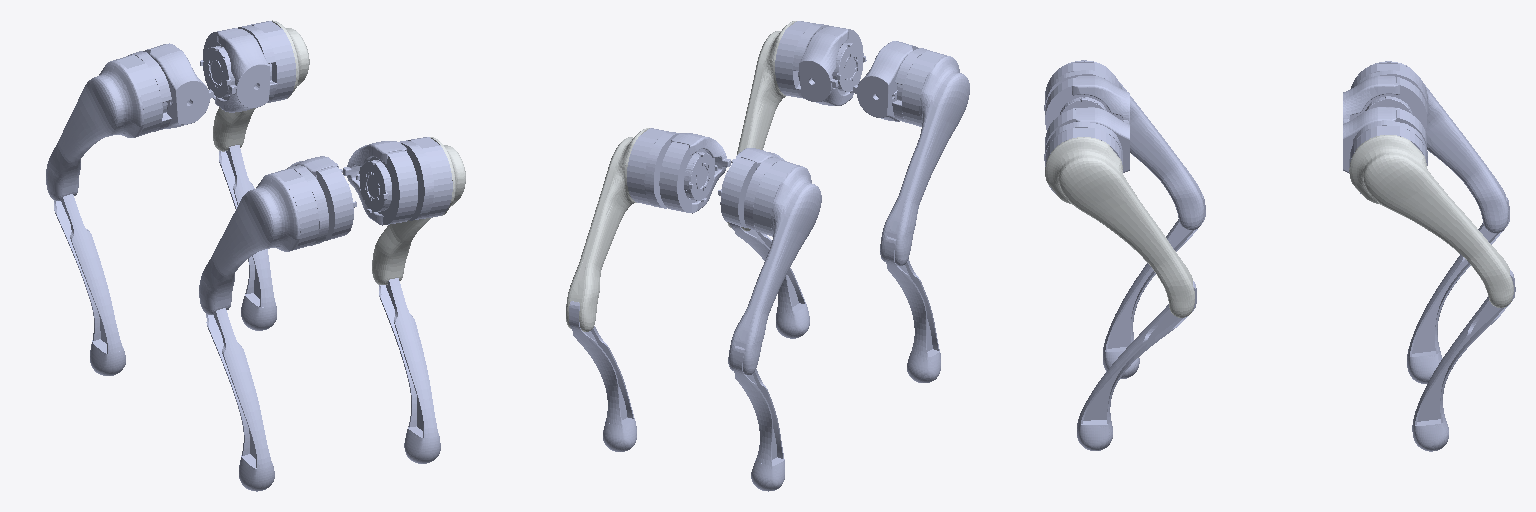
robot.urdf — quadruped:
<?xml version="1.0" encoding="utf-8"?>
<!-- This URDF was automatically created by SolidWorks to URDF Exporter! Originally created by [author] ([email redacted]) 
     Commit Version: 1.6.0-4-g7f85cfe  Build Version: 1.6.7995.38578
     For more information, please see http://wiki.ros.org/sw_urdf_exporter -->
<robot
  name="quadruped">
  <link name="base_footprint" >
    </link>

  <link
    name="base_link">
    <inertial>
      <origin
        xyz="0.000752495916009444 -0.080216130979565 -0.0778330308190568"
        rpy="0 0 0" />
      <mass
        value="11.6015850130992" />
      <inertia
        ixx="0.043009263742307"
        ixy="-3.70499990792607E-06"
        ixz="-0.000403848618081728"
        iyy="0.0588206185903865"
        iyz="0.00155366137564753"
        izz="0.0232715272003946" />
    </inertial>
    <visual>
      <origin
        xyz="0 0 0"
        rpy="0 0 0" />
      <geometry>
        <mesh
          filename="package://quadruped/meshes/base_link.STL" />
      </geometry>
      <material
        name="">
        <color
          rgba="0.90784313725490196 0.89 0.984313725490196 1" />
      </material>
    </visual>
    <collision>
      <origin
        xyz="0 0 0"
        rpy="0 0 0" />
      <geometry>
        <mesh
          filename="package://quadruped/meshes/base_link.STL" />
      </geometry>
    </collision>
  </link>

  <joint name="base_link2body_link" type="fixed">
        <parent link="base_footprint" />
        <child link="base_link" />
        <origin rpy="-1.57079632679487 0 0" xyz="0 0 0.4" />
        <axis xyz="0 0 1" />
    </joint>

  <link
    name="fl_hip">
    <inertial>
      <origin
        xyz="4.92583133146676E-05 0.0535669995994788 0.0200990145510571"
        rpy="0 0 0" />
      <mass
        value="0.62530929599068" />
      <inertia
        ixx="0.000369199602216348"
        ixy="8.71408166676265E-07"
        ixz="-1.10627450922441E-08"
        iyy="0.000393009437394139"
        iyz="-1.01602385775192E-06"
        izz="0.000646977204485832" />
    </inertial>
    <visual>
      <origin
        xyz="0 0 0"
        rpy="0 0 0" />
      <geometry>
        <mesh
          filename="package://quadruped/meshes/fl_hip.STL" />
      </geometry>
      <material
        name="">
        <color
          rgba="0.792156862745098 0.819607843137255 0.933333333333333 1" />
      </material>
    </visual>
    <collision>
      <origin
        xyz="0 0 0"
        rpy="0 0 0" />
      <geometry>
        <mesh
          filename="package://quadruped/meshes/fl_hip.STL" />
      </geometry>
    </collision>
  </link>
  <joint
    name="fl_hip_joint"
    type="continuous">
    <origin
      xyz="0.04675 0 -0.1316"
      rpy="-1.57079632679487 0 -1.49760970819496" />
    <parent
      link="base_link" />
    <child
      link="fl_hip" />
    <axis
      xyz="0 -1 0" />
  </joint>
  <link
    name="fl_thigh">
    <inertial>
      <origin
        xyz="0.0694334224905727 0.0071900522058161 -0.00769417299016467"
        rpy="0 0 0" />
      <mass
        value="0.353957750380783" />
      <inertia
        ixx="0.00014080701353485"
        ixy="-7.44567427545961E-05"
        ixz="9.56636451746183E-05"
        iyy="0.00218695117611276"
        iyz="8.3243947292521E-06"
        izz="0.00210735709219806" />
    </inertial>
    <visual>
      <origin
        xyz="0 0 0"
        rpy="0 0 0" />
      <geometry>
        <mesh
          filename="package://quadruped/meshes/fl_thigh.STL" />
      </geometry>
      <material
        name="">
        <color
          rgba="0.898039215686275 0.917647058823529 0.929411764705882 1" />
      </material>
    </visual>
    <collision>
      <origin
        xyz="0 0 0"
        rpy="0 0 0" />
      <geometry>
        <mesh
          filename="package://quadruped/meshes/fl_thigh.STL" />
      </geometry>
    </collision>
  </link>
  <joint
    name="fl_thigh_joint"
    type="continuous">
    <origin
      xyz="0 0.0565 0.0698"
      rpy="1.5708 0 -2.5408" />
    <parent
      link="fl_hip" />
    <child
      link="fl_thigh" />
    <axis
      xyz="0 1 0" />
  </joint>
  <link
    name="fl_calf">
    <inertial>
      <origin
        xyz="-0.120970927796247 0.0765623755604252 0.0123999113836051"
        rpy="0 0 0" />
      <mass
        value="0.0970218655517484" />
      <inertia
        ixx="9.56073592044336E-05"
        ixy="0.000108548966388269"
        ixz="2.9516835495558E-10"
        iyy="0.000160671805997434"
        iyz="-2.65464775446173E-09"
        izz="0.000245142144728119" />
    </inertial>
    <visual>
      <origin
        xyz="0 0 0"
        rpy="0 0 0" />
      <geometry>
        <mesh
          filename="package://quadruped/meshes/fl_calf.STL" />
      </geometry>
      <material
        name="">
        <color
          rgba="0.792156862745098 0.819607843137255 0.933333333333333 1" />
      </material>
    </visual>
    <collision>
      <origin
        xyz="0 0 0"
        rpy="0 0 0" />
      <geometry>
        <mesh
          filename="package://quadruped/meshes/fl_calf.STL" />
      </geometry>
    </collision>
  </link>
  <joint
    name="fl_calf_joint"
    type="continuous">
    <origin
      xyz="0.213 -0.0027 0"
      rpy="1.5708 0.60083 -3.1416" />
    <parent
      link="fl_thigh" />
    <child
      link="fl_calf" />
    <axis
      xyz="0 0 -1" />
  </joint>
  <link
    name="rl_hip">
    <inertial>
      <origin
        xyz="-4.92749015765907E-05 -0.00293299455401402 -0.0105990354932866"
        rpy="0 0 0" />
      <mass
        value="0.6253089067032" />
      <inertia
        ixx="0.000369210492129897"
        ixy="-8.61586846076742E-07"
        ixz="-7.78132992311227E-09"
        iyy="0.000393019170316637"
        iyz="1.0128732349074E-06"
        izz="0.000646995625636194" />
    </inertial>
    <visual>
      <origin
        xyz="0 0 0"
        rpy="0 0 0" />
      <geometry>
        <mesh
          filename="package://quadruped/meshes/rl_hip.STL" />
      </geometry>
      <material
        name="">
        <color
          rgba="0.792156862745098 0.819607843137255 0.933333333333333 1" />
      </material>
    </visual>
    <collision>
      <origin
        xyz="0 0 0"
        rpy="0 0 0" />
      <geometry>
        <mesh
          filename="package://quadruped/meshes/rl_hip.STL" />
      </geometry>
    </collision>
  </link>
  <joint
    name="rl_hip_joint"
    type="continuous">
    <origin
      xyz="0.0562432918733803 0.000356944543040213 0.1881"
      rpy="1.5707963267949 0 -1.53321437081203" />
    <parent
      link="base_link" />
    <child
      link="rl_hip" />
    <axis
      xyz="0 -1 0" />
  </joint>
  <link
    name="rl_thigh">
    <inertial>
      <origin
        xyz="0.0694338198098081 0.00719004738249336 -0.00769411856040869"
        rpy="0 0 0" />
      <mass
        value="0.353956887418813" />
      <inertia
        ixx="0.000140808434417983"
        ixy="-7.44570347959447E-05"
        ixz="9.56639451737715E-05"
        iyy="0.00218695314859873"
        iyz="8.32374920165179E-06"
        izz="0.00210735761325968" />
    </inertial>
    <visual>
      <origin
        xyz="0 0 0"
        rpy="0 0 0" />
      <geometry>
        <mesh
          filename="package://quadruped/meshes/rl_thigh.STL" />
      </geometry>
      <material
        name="">
        <color
          rgba="0.898039215686275 0.917647058823529 0.929411764705882 1" />
      </material>
    </visual>
    <collision>
      <origin
        xyz="0 0 0"
        rpy="0 0 0" />
      <geometry>
        <mesh
          filename="package://quadruped/meshes/rl_thigh.STL" />
      </geometry>
    </collision>
  </link>
  <joint
    name="rl_thigh_joint"
    type="continuous">
    <origin
      xyz="0 0 -0.0603000000000004"
      rpy="-1.5707963267949 0 2.43152992225609" />
    <parent
      link="rl_hip" />
    <child
      link="rl_thigh" />
    <axis
      xyz="0 1 0" />
  </joint>
  <link
    name="rl_calf">
    <inertial>
      <origin
        xyz="0.128594224187596 -0.0629170637871342 0.0124000366618044"
        rpy="0 0 0" />
      <mass
        value="0.0970232335666546" />
      <inertia
        ixx="7.28432489188841E-05"
        ixy="9.88966968480843E-05"
        ixz="2.12425641848113E-09"
        iyy="0.000183382219983255"
        iyz="1.04817449349891E-09"
        izz="0.000245088770891125" />
    </inertial>
    <visual>
      <origin
        xyz="0 0 0"
        rpy="0 0 0" />
      <geometry>
        <mesh
          filename="package://quadruped/meshes/rl_calf.STL" />
      </geometry>
      <material
        name="">
        <color
          rgba="0.792156862745098 0.819607843137255 0.933333333333333 1" />
      </material>
    </visual>
    <collision>
      <origin
        xyz="0 0 0"
        rpy="0 0 0" />
      <geometry>
        <mesh
          filename="package://quadruped/meshes/rl_calf.STL" />
      </geometry>
    </collision>
  </link>
  <joint
    name="rl_calf_joint"
    type="continuous">
    <origin
      xyz="0.213 -0.0027 0"
      rpy="-1.5708 -0.71006 0" />
    <parent
      link="rl_thigh" />
    <child
      link="rl_calf" />
    <axis
      xyz="0 0 -1" />
  </joint>
  <link
    name="fr_hip">
    <inertial>
      <origin
        xyz="-4.92748089116575E-05 -0.00293299449838894 -0.0105990346313431"
        rpy="0 0 0" />
      <mass
        value="0.625308921007543" />
      <inertia
        ixx="0.000369210502146603"
        ixy="-8.61593095652429E-07"
        ixz="-7.78524390606701E-09"
        iyy="0.000393019185429056"
        iyz="1.01286962529073E-06"
        izz="0.000646995646564777" />
    </inertial>
    <visual>
      <origin
        xyz="0 0 0"
        rpy="0 0 0" />
      <geometry>
        <mesh
          filename="package://quadruped/meshes/fr_hip.STL" />
      </geometry>
      <material
        name="">
        <color
          rgba="0.792156862745098 0.819607843137255 0.933333333333333 1" />
      </material>
    </visual>
    <collision>
      <origin
        xyz="0 0 0"
        rpy="0 0 0" />
      <geometry>
        <mesh
          filename="package://quadruped/meshes/fr_hip.STL" />
      </geometry>
    </collision>
  </link>
  <joint
    name="fr_hip_joint"
    type="continuous">
    <origin
      xyz="-0.0562404499451662 0.000425863638135441 -0.1881"
      rpy="-1.57079632679485 0 -1.61563910553559" />
    <parent
      link="base_link" />
    <child
      link="fr_hip" />
    <axis
      xyz="0 -1 0" />
  </joint>
  <link
    name="fr_thigh">
    <inertial>
      <origin
        xyz="0.0694329825856921 -0.00718950506545733 -0.00769041540566529"
        rpy="0 0 0" />
      <mass
        value="0.35396930863273" />
      <inertia
        ixx="0.000140853133154817"
        ixy="7.44589068308154E-05"
        ixz="9.57462266599708E-05"
        iyy="0.00218717919572663"
        iyz="-8.33426088466234E-06"
        izz="0.00210754158994937" />
    </inertial>
    <visual>
      <origin
        xyz="0 0 0"
        rpy="0 0 0" />
      <geometry>
        <mesh
          filename="package://quadruped/meshes/fr_thigh.STL" />
      </geometry>
      <material
        name="">
        <color
          rgba="0.792156862745098 0.819607843137255 0.933333333333333 1" />
      </material>
    </visual>
    <collision>
      <origin
        xyz="0 0 0"
        rpy="0 0 0" />
      <geometry>
        <mesh
          filename="package://quadruped/meshes/fr_thigh.STL" />
      </geometry>
    </collision>
  </link>
  <joint
    name="fr_thigh_joint"
    type="continuous">
    <origin
      xyz="0 0 -0.0603000000000002"
      rpy="1.57079632679493 0 -2.4715817859872" />
    <parent
      link="fr_hip" />
    <child
      link="fr_thigh" />
    <axis
      xyz="0.0645326079958218 0.996605004293226 0.0511273696072495" />
  </joint>
  <link
    name="fr_calf">
    <inertial>
      <origin
        xyz="-0.128593718552932 -0.0629166298428721 0.0138998629767867"
        rpy="0 0 0" />
      <mass
        value="0.0970264832242042" />
      <inertia
        ixx="7.28468896209138E-05"
        ixy="-9.88997562689223E-05"
        ixz="2.40537871751589E-09"
        iyy="0.000183383466323058"
        iyz="-1.06165210657005E-09"
        izz="0.000245093434706865" />
    </inertial>
    <visual>
      <origin
        xyz="0 0 0"
        rpy="0 0 0" />
      <geometry>
        <mesh
          filename="package://quadruped/meshes/fr_calf.STL" />
      </geometry>
      <material
        name="">
        <color
          rgba="0.792156862745098 0.819607843137255 0.933333333333333 1" />
      </material>
    </visual>
    <collision>
      <origin
        xyz="0 0 0"
        rpy="0 0 0" />
      <geometry>
        <mesh
          filename="package://quadruped/meshes/fr_calf.STL" />
      </geometry>
    </collision>
  </link>
  <joint
    name="fr_calf_joint"
    type="continuous">
    <origin
      xyz="0.213 0.0027 0"
      rpy="-1.5708 0.67001 -3.1416" />
    <parent
      link="fr_thigh" />
    <child
      link="fr_calf" />
    <axis
      xyz="0 0 -1" />
  </joint>
  <link
    name="rr_hip">
    <inertial>
      <origin
        xyz="4.92574375927459E-05 0.0535669995014552 0.0200990120878553"
        rpy="0 0 0" />
      <mass
        value="0.625309338307514" />
      <inertia
        ixx="0.000369199655440014"
        ixy="8.71417646450877E-07"
        ixz="-1.10703136892281E-08"
        iyy="0.000393009505004509"
        iyz="-1.01600425720427E-06"
        izz="0.000646977305780013" />
    </inertial>
    <visual>
      <origin
        xyz="0 0 0"
        rpy="0 0 0" />
      <geometry>
        <mesh
          filename="package://quadruped/meshes/rr_hip.STL" />
      </geometry>
      <material
        name="">
        <color
          rgba="0.792156862745098 0.819607843137255 0.933333333333333 1" />
      </material>
    </visual>
    <collision>
      <origin
        xyz="0 0 0"
        rpy="0 0 0" />
      <geometry>
        <mesh
          filename="package://quadruped/meshes/rr_hip.STL" />
      </geometry>
    </collision>
  </link>
  <joint
    name="rr_hip_joint"
    type="continuous">
    <origin
      xyz="-0.04675 0 0.1316"
      rpy="1.5708 0 -1.6452" />
    <parent
      link="base_link" />
    <child
      link="rr_hip" />
    <axis
      xyz="0 -1 0" />
  </joint>
  <link
    name="rr_thigh">
    <inertial>
      <origin
        xyz="0.0694327946568081 -0.00718950066685925 -0.00769032696168029"
        rpy="0 0 0" />
      <mass
        value="0.353970922817238" />
      <inertia
        ixx="0.000140853274670944"
        ixy="7.44581344780103E-05"
        ixz="9.57481304832568E-05"
        iyy="0.00218717900209233"
        iyz="-8.33442265729461E-06"
        izz="0.00210754140942017" />
    </inertial>
    <visual>
      <origin
        xyz="0 0 0"
        rpy="0 0 0" />
      <geometry>
        <mesh
          filename="package://quadruped/meshes/rr_thigh.STL" />
      </geometry>
      <material
        name="">
        <color
          rgba="0.792156862745098 0.819607843137255 0.933333333333333 1" />
      </material>
    </visual>
    <collision>
      <origin
        xyz="0 0 0"
        rpy="0 0 0" />
      <geometry>
        <mesh
          filename="package://quadruped/meshes/rr_thigh.STL" />
      </geometry>
    </collision>
  </link>
  <joint
    name="rr_thigh_joint"
    type="continuous">
    <origin
      xyz="0 0.0565 0.0698"
      rpy="-1.5708 0 2.4716" />
    <parent
      link="rr_hip" />
    <child
      link="rr_thigh" />
    <axis
      xyz="0 -1 0" />
  </joint>
  <link
    name="rr_calf">
    <inertial>
      <origin
        xyz="0.128592965497158 0.0629161701151437 0.0138998810820521"
        rpy="0 0 0" />
      <mass
        value="0.0970272445884463" />
      <inertia
        ixx="7.28483962078478E-05"
        ixy="-9.89013374906325E-05"
        ixz="-2.45294777242467E-09"
        iyy="0.000183383822186118"
        iyz="1.04869980197243E-09"
        izz="0.00024509533585515" />
    </inertial>
    <visual>
      <origin
        xyz="0 0 0"
        rpy="0 0 0" />
      <geometry>
        <mesh
          filename="package://quadruped/meshes/rr_calf.STL" />
      </geometry>
      <material
        name="">
        <color
          rgba="0.792156862745098 0.819607843137255 0.933333333333333 1" />
      </material>
    </visual>
    <collision>
      <origin
        xyz="0 0 0"
        rpy="0 0 0" />
      <geometry>
        <mesh
          filename="package://quadruped/meshes/rr_calf.STL" />
      </geometry>
    </collision>
  </link>
  <joint
    name="rr_calf_joint"
    type="continuous">
    <origin
      xyz="0.213 0.0027 0"
      rpy="1.5708 -0.67001 0" />
    <parent
      link="rr_thigh" />
    <child
      link="rr_calf" />
    <axis
      xyz="0 0 -1" />
  </joint>
</robot>

--- Render facts (derived) ---
3 views of the same robot in one strip: view 1: azimuth 30°, elevation 25°; view 2: azimuth 150°, elevation 25°; view 3: azimuth 270°, elevation 25° (orthographic).
Model quadruped with 14 links and 13 joints (12 continuous, 1 fixed), rooted at base_footprint, posed all joints at 0.
Links seen in each view (by area): view 1: fl_hip, rl_hip, fr_thigh, rr_thigh, rr_hip, fr_hip, fl_calf, fr_calf, rr_calf, rl_calf, fl_thigh, rl_thigh; view 2: rl_hip, fr_thigh, rr_thigh, fl_hip, rl_thigh, fr_hip, rr_hip, rl_calf, fr_calf, rr_calf, fl_thigh, fl_calf; view 3: rl_thigh, fl_thigh, rr_thigh, fr_thigh, fl_calf, fr_hip, rl_calf, rr_hip, rr_calf, fl_hip, rl_hip, fr_calf.
Link boxes in pixels (left/top/right/bottom): fl_hip: left=343, top=137, right=452, bottom=225; rl_hip: left=200, top=21, right=295, bottom=112; fr_thigh: left=199, top=174, right=300, bottom=314; rr_thigh: left=46, top=61, right=143, bottom=200; rr_hip: left=113, top=43, right=213, bottom=136; fr_hip: left=271, top=156, right=356, bottom=249; fl_calf: left=379, top=278, right=440, bottom=463; fr_calf: left=206, top=308, right=274, bottom=491; rr_calf: left=54, top=194, right=125, bottom=375; rl_calf: left=219, top=145, right=276, bottom=330; fl_thigh: left=372, top=137, right=465, bottom=284; rl_thigh: left=213, top=20, right=309, bottom=151; rl_hip: left=627, top=128, right=730, bottom=213; fr_thigh: left=880, top=56, right=969, bottom=265; rr_thigh: left=728, top=166, right=821, bottom=374; fl_hip: left=775, top=21, right=866, bottom=105; rl_thigh: left=566, top=128, right=649, bottom=331; fr_hip: left=853, top=41, right=946, bottom=126; rr_hip: left=718, top=148, right=799, bottom=236; rl_calf: left=569, top=301, right=636, bottom=451; fr_calf: left=884, top=236, right=940, bottom=382; rr_calf: left=733, top=346, right=784, bottom=491; fl_thigh: left=727, top=21, right=796, bottom=230; fl_calf: left=730, top=223, right=809, bottom=338; rl_thigh: left=1349, top=135, right=1513, bottom=307; fl_thigh: left=1045, top=137, right=1194, bottom=317; rr_thigh: left=1351, top=61, right=1508, bottom=233; fr_thigh: left=1045, top=60, right=1203, bottom=229; fl_calf: left=1077, top=281, right=1196, bottom=450; fr_hip: left=1044, top=63, right=1129, bottom=129; rl_calf: left=1412, top=270, right=1515, bottom=451; rr_hip: left=1343, top=64, right=1427, bottom=130; rr_calf: left=1407, top=197, right=1509, bottom=383; fl_hip: left=1044, top=107, right=1129, bottom=193; rl_hip: left=1343, top=107, right=1427, bottom=193; fr_calf: left=1103, top=194, right=1205, bottom=378.
Size in the robot's own frame: 0.2833 by 0.5821 by 0.4377 metres.
Meshes: 13 distinct files referenced, 12 mesh visuals loaded (12 binary STL); not drawn: 1 (reference not matched to a file when rendering).